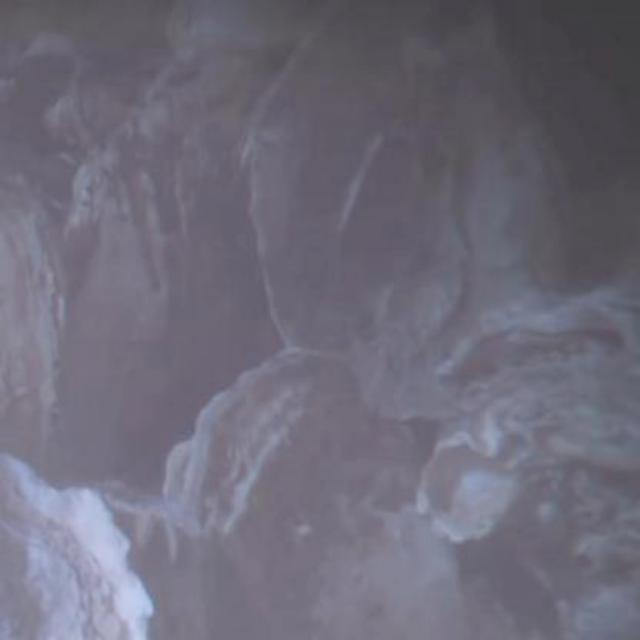Oyster-Closed: (259, 6, 575, 415), (160, 356, 333, 626), (0, 460, 151, 640), (0, 182, 69, 469)
